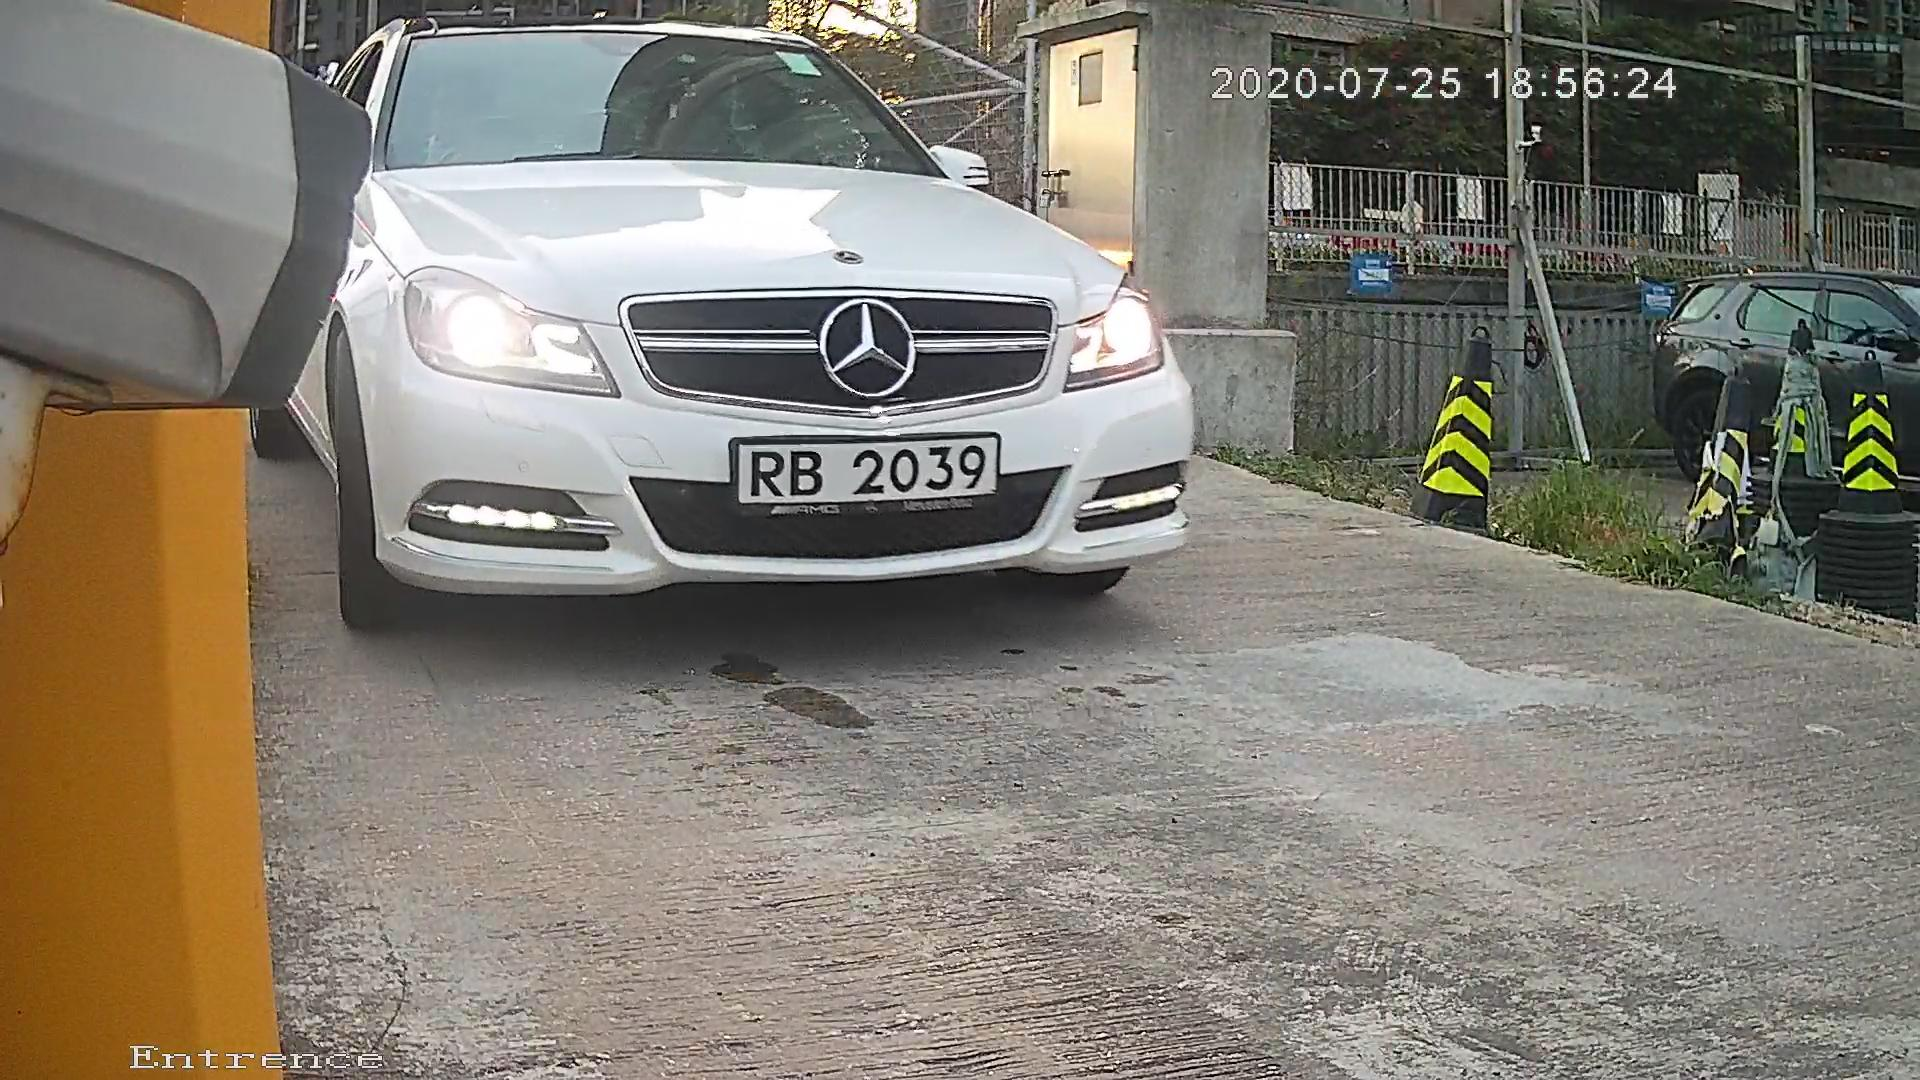License Plate: (695, 425, 1021, 507)
